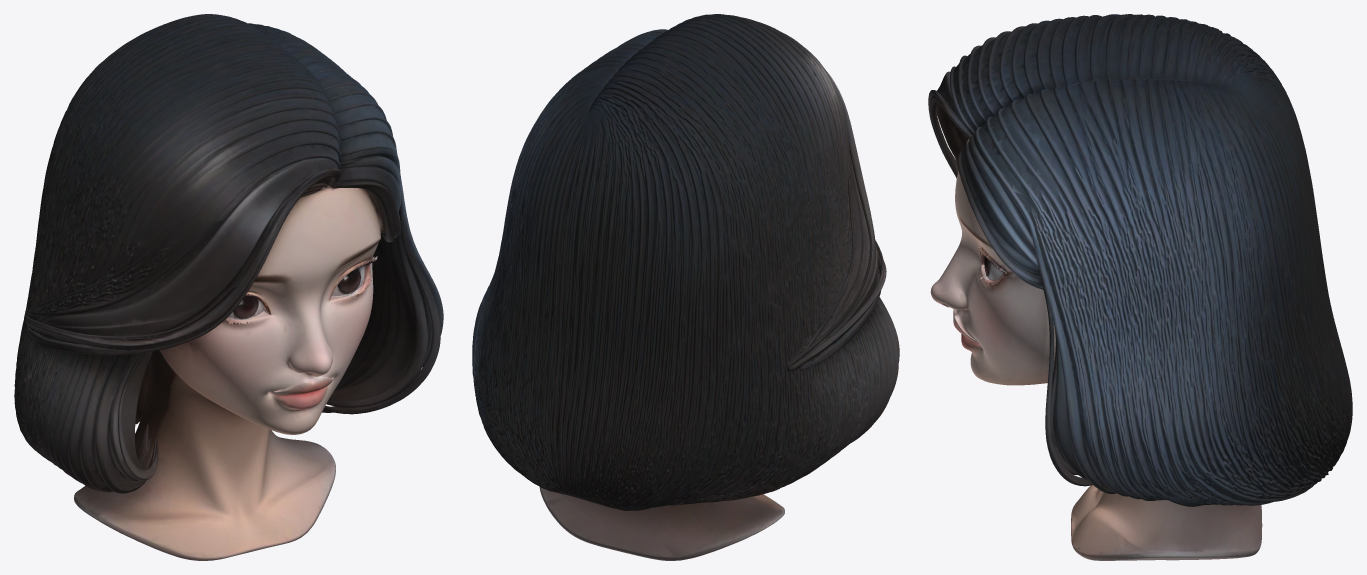
File: digital-human.glb
The picture shows the model from 3 angles, left to right: view 1: azimuth 30°, elevation 25°; view 2: azimuth 150°, elevation 25°; view 3: azimuth 270°, elevation 25°; orthographic projection. The views are drawn at different scales.
Visible parts, largest first — view 1: node_0; view 2: node_0; view 3: node_0.
Boxes of the visible parts, left/top/right/bottom form: node_0: left=14, top=14, right=443, bottom=560; node_0: left=472, top=14, right=899, bottom=560; node_0: left=928, top=14, right=1352, bottom=560.
Size of the model in its own units: 0.901 by 1.11 by 0.8401.
1 material, 1 textured.
